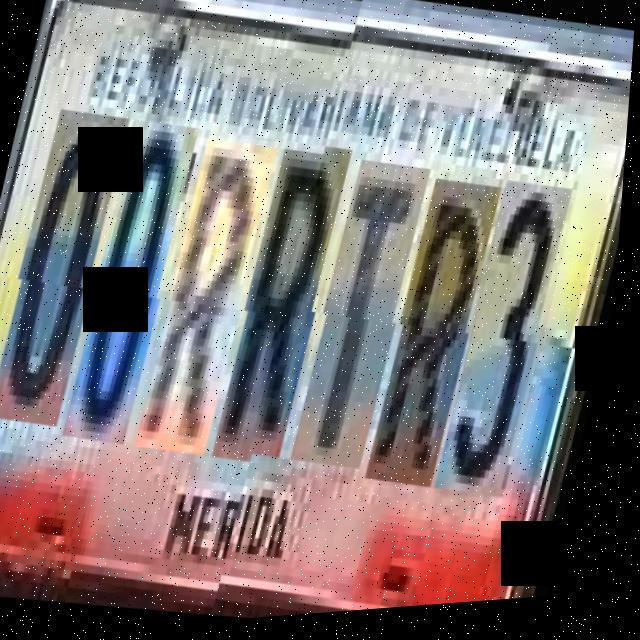3: (442, 186, 582, 512)
O: (70, 117, 207, 450), (0, 106, 138, 432)
R: (143, 135, 287, 462), (220, 147, 360, 472), (373, 185, 510, 502)
T: (298, 166, 439, 483)
